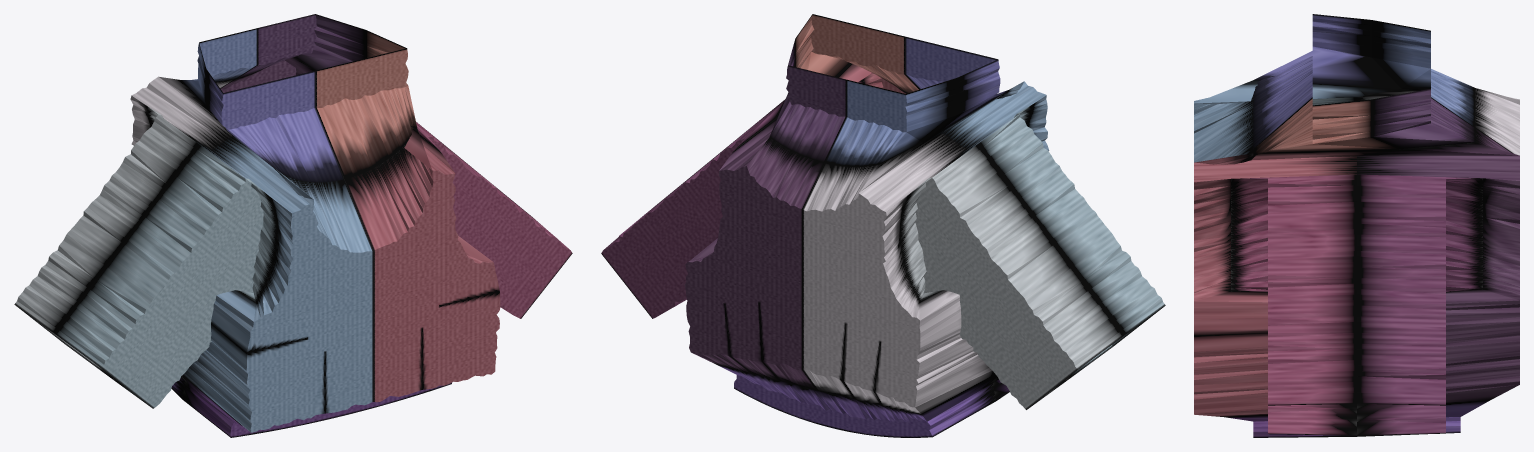
File: valid_garment_upper_boxmesh.obj
3 renders of one model, left to right at view 1: azimuth 30°, elevation 25°; view 2: azimuth 150°, elevation 25°; view 3: azimuth 270°, elevation 25°, orthographic.
Size of the model in its own units: 95.05 by 63.44 by 55.
1 material, 1 textured.
